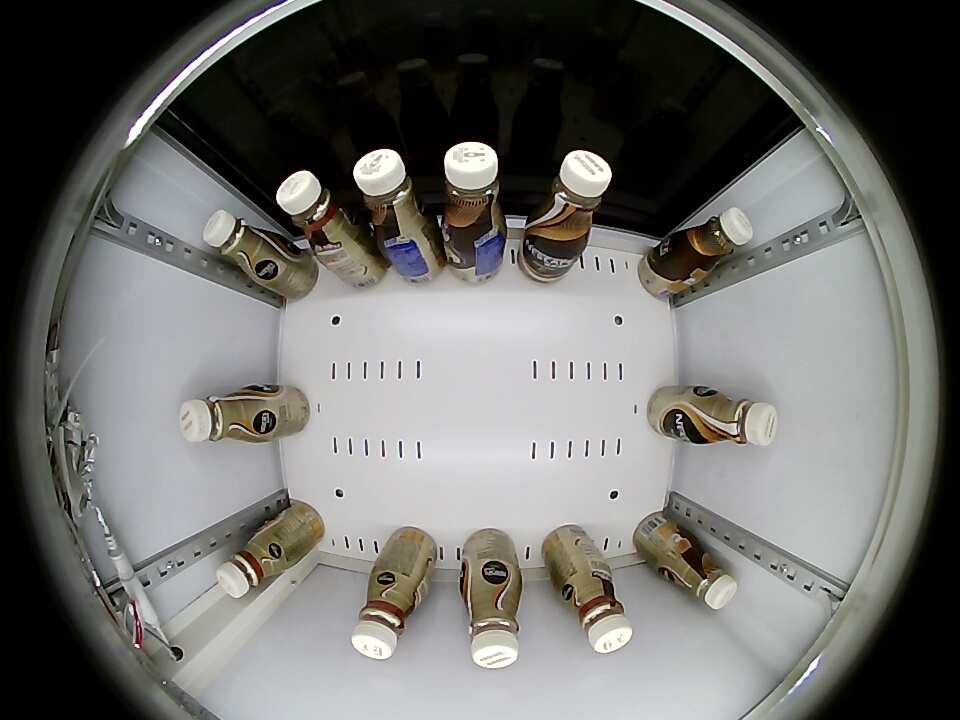kafei: (526, 150, 611, 249), (354, 149, 437, 243), (277, 170, 357, 252), (460, 565, 523, 669), (352, 575, 427, 660), (670, 207, 755, 282), (441, 142, 505, 241), (202, 209, 284, 283), (557, 574, 633, 653), (690, 388, 778, 448), (179, 386, 267, 445), (663, 540, 737, 610), (216, 528, 288, 599)
